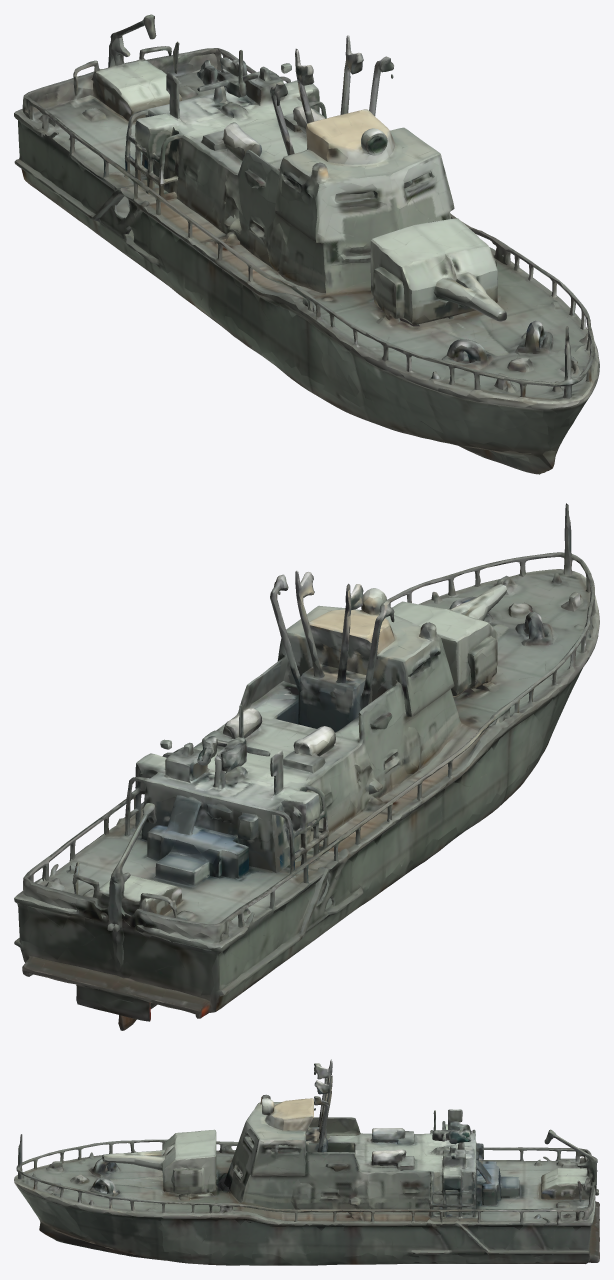
Rendered from sea_gunboat.glb.
The picture shows the model from 3 angles, top to bottom: view 1: azimuth 30°, elevation 25°; view 2: azimuth 150°, elevation 25°; view 3: azimuth 270°, elevation 25°; orthographic projection. The views are drawn at different scales.
Parts seen in each view (by area): view 1: geometry_0; view 2: geometry_0; view 3: geometry_0.
Part boxes in pixels (bbox=[...]): geometry_0: bbox=[14, 14, 599, 474]; geometry_0: bbox=[14, 503, 599, 1030]; geometry_0: bbox=[14, 1059, 599, 1265].
Size of the model in its own units: 35 by 48.51 by 132.
Materials: 1 (1 with a texture image).
